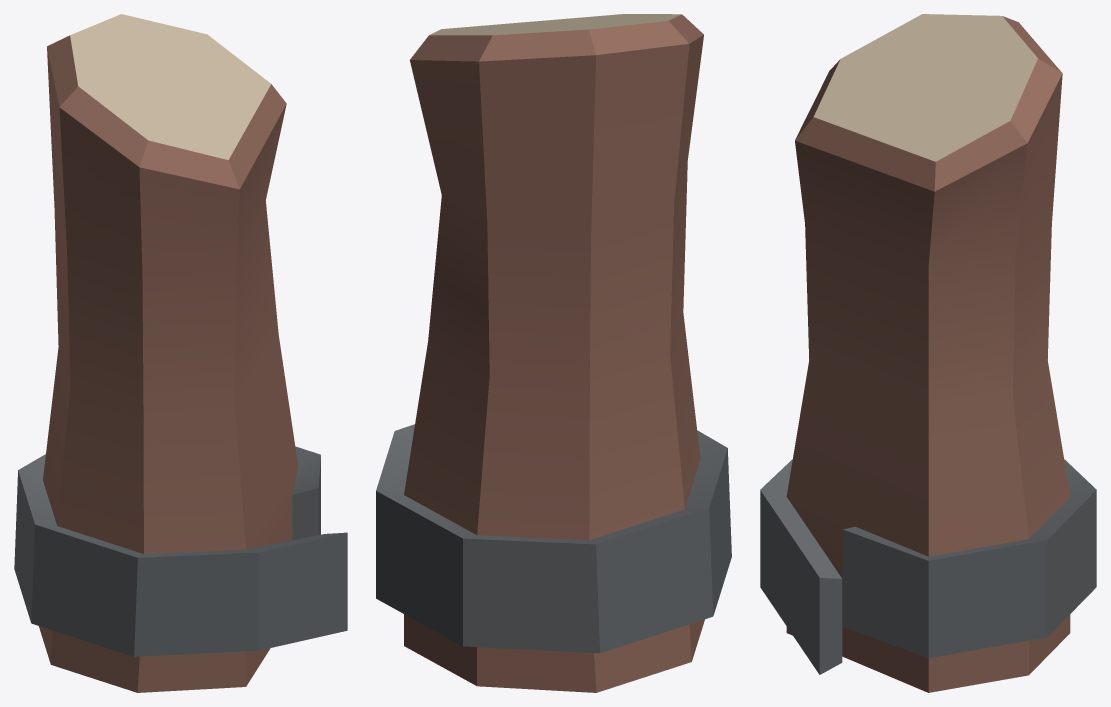
File: SM_Wooden_Pillar_Small_Medium_04.fbx
3 views of the same model, side by side, from view 1: azimuth 30°, elevation 25°; view 2: azimuth 150°, elevation 25°; view 3: azimuth 270°, elevation 25° (orthographic). The views are drawn at different scales.
Visible parts, largest first — view 1: Wooden_Pillar_Small_Medium_04; view 2: Wooden_Pillar_Small_Medium_04; view 3: Wooden_Pillar_Small_Medium_04.
Part boxes in pixels (bbox=[...]): Wooden_Pillar_Small_Medium_04: bbox=[14, 14, 347, 692]; Wooden_Pillar_Small_Medium_04: bbox=[376, 14, 731, 692]; Wooden_Pillar_Small_Medium_04: bbox=[760, 14, 1096, 692].
Size of the model in its own units: 16.9 by 32.8 by 17.12.
